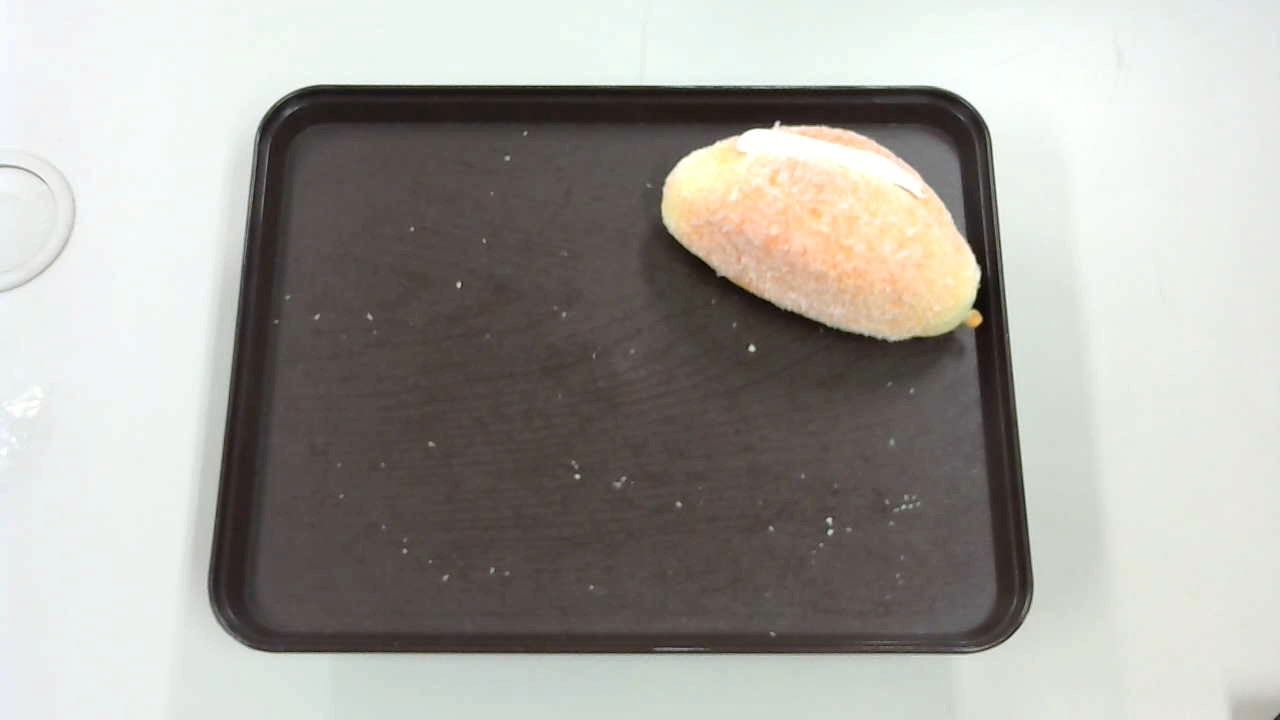coconut: (661, 122, 984, 342)
